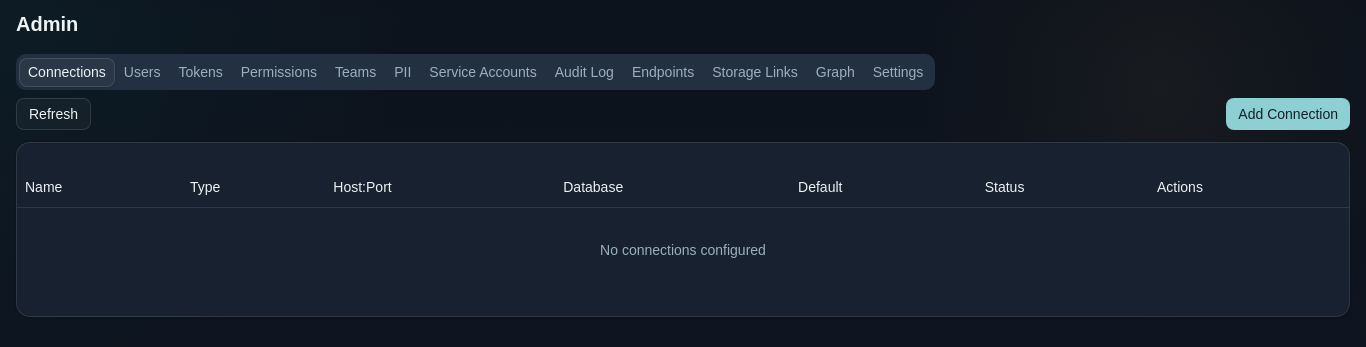
AdminPage › renders users table when data loads
// Switch to Users tab (Connections is now default)
Click the tab "Users" at (142, 72), box left=115, top=58, right=169, bottom=86
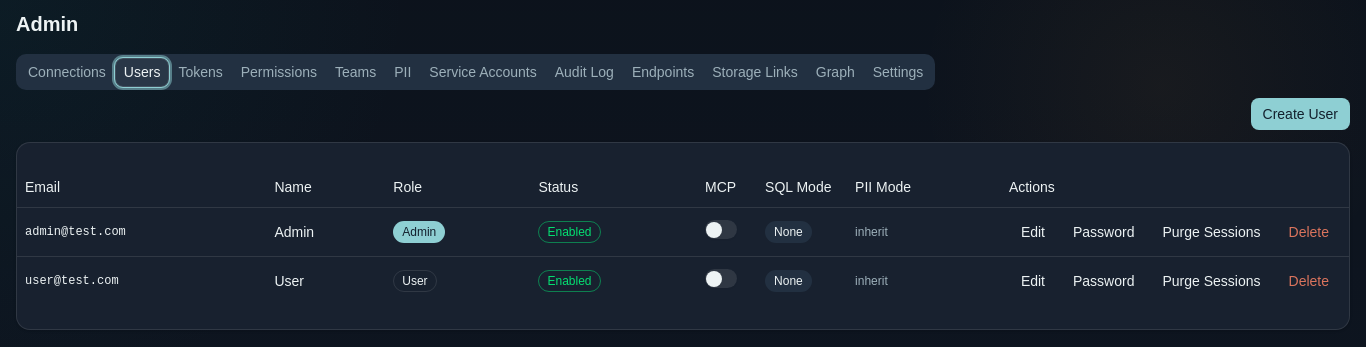
expect the text "admin@test.com" is shown: met, box left=17, top=207, right=266, bottom=256
expect the text "user@test.com" is shown: met, box left=17, top=256, right=266, bottom=304
